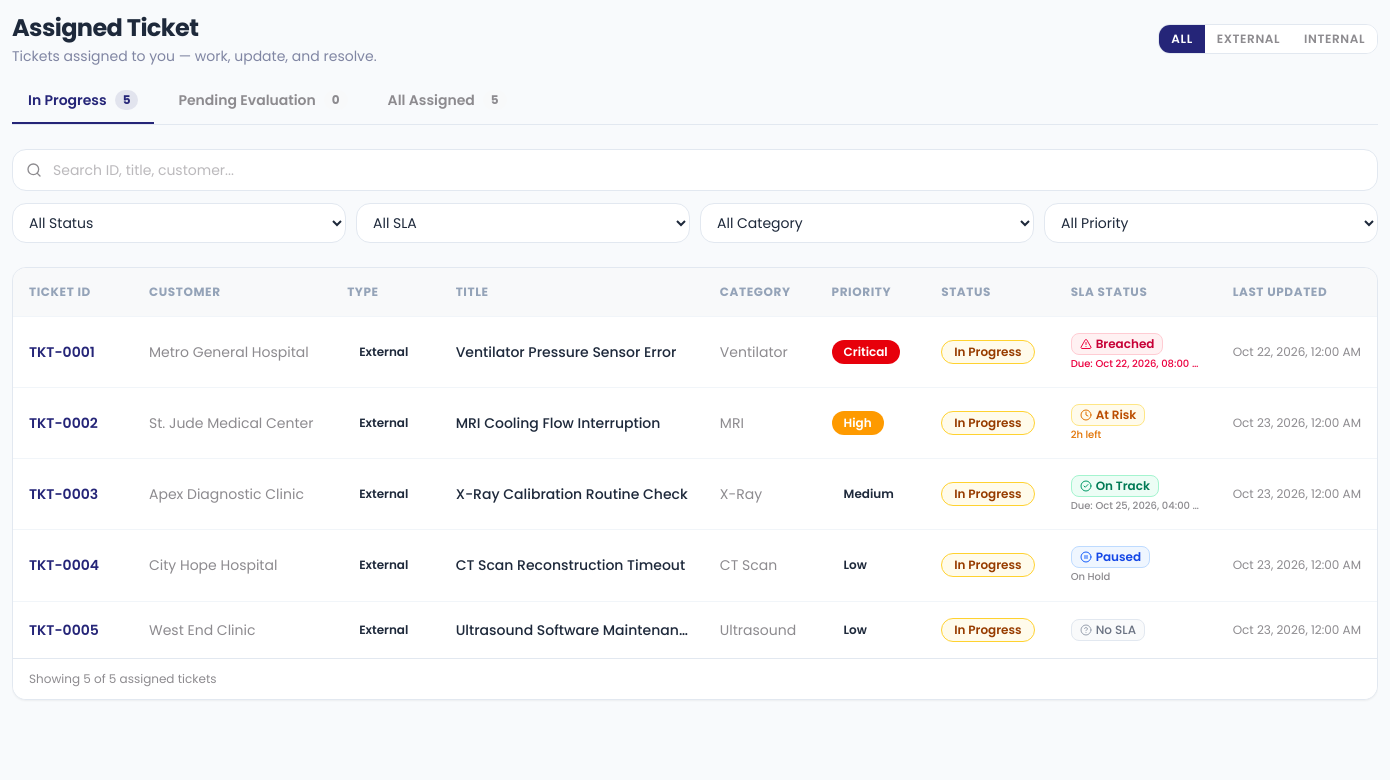
EmployeeMachine Component Tests (SLA Status Display & Filtering) › filters tickets by SLA Status using the SLA Filter dropdown
Expected: the text "Ventilator Pressure Sensor Error" is shown, [456, 342, 688, 362]
// Filter by Breached
Select "Breached" in the 2nd dropdown at (523, 223), box [356, 203, 690, 243]
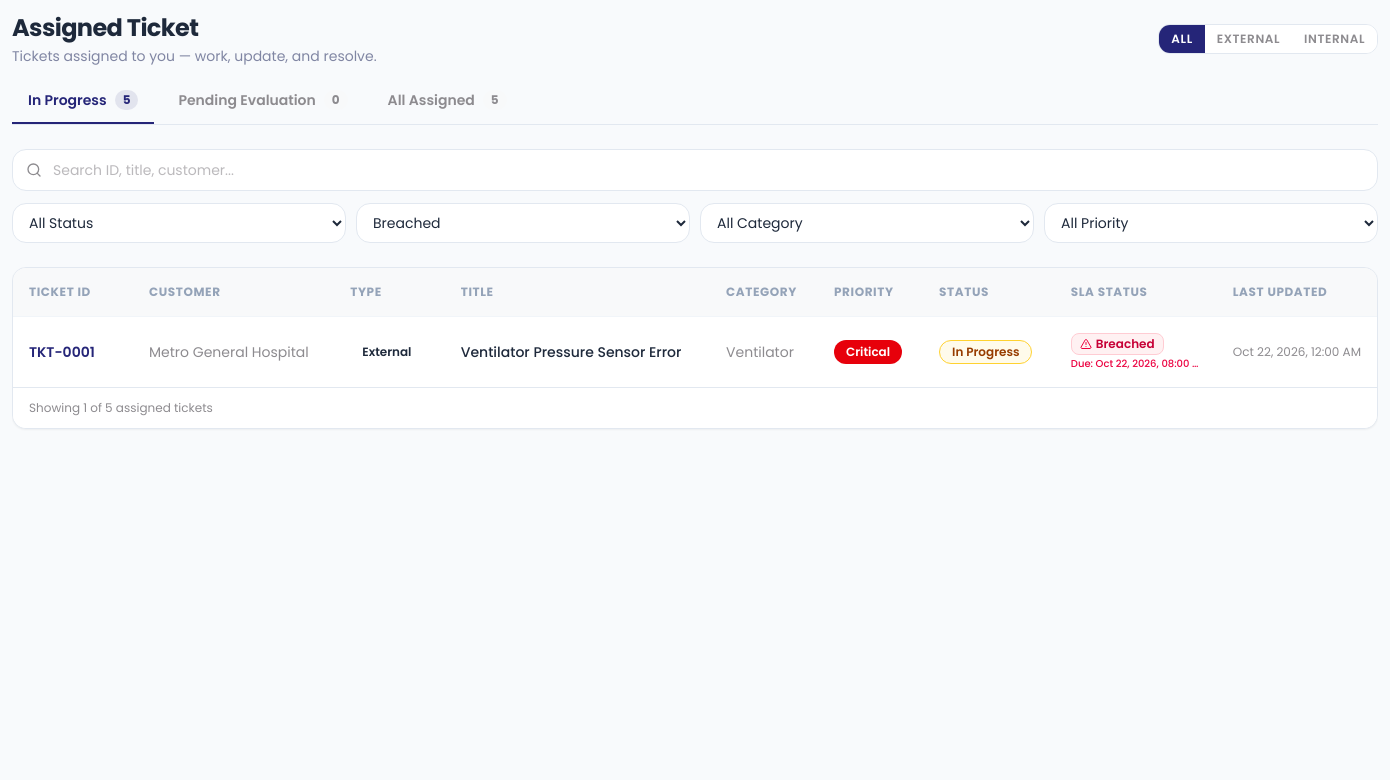
Expected: the text "Ventilator Pressure Sensor Error" is shown, [461, 342, 694, 362]
Expected: the text "MRI Cooling Flow Interruption" is gone
Expected: the text "X-Ray Calibration Routine Check" is gone
// Filter by At Risk
Select "At Risk" in the 2nd dropdown at (523, 223), box [356, 203, 690, 243]
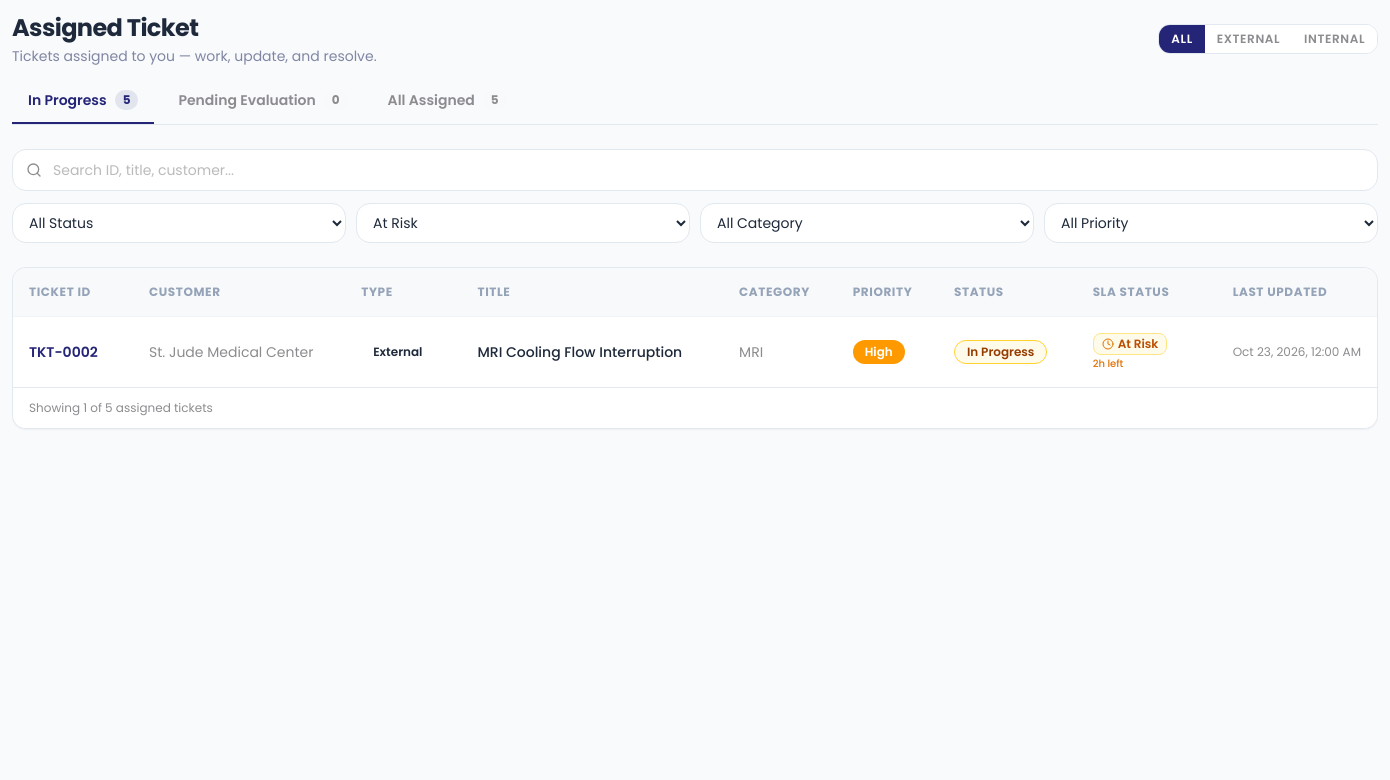
Expected: the text "X-Ray Calibration Routine Check" is not shown
Expected: the text "Ventilator Pressure Sensor Error" is gone
Expected: the text "MRI Cooling Flow Interruption" is shown, [478, 342, 707, 362]
